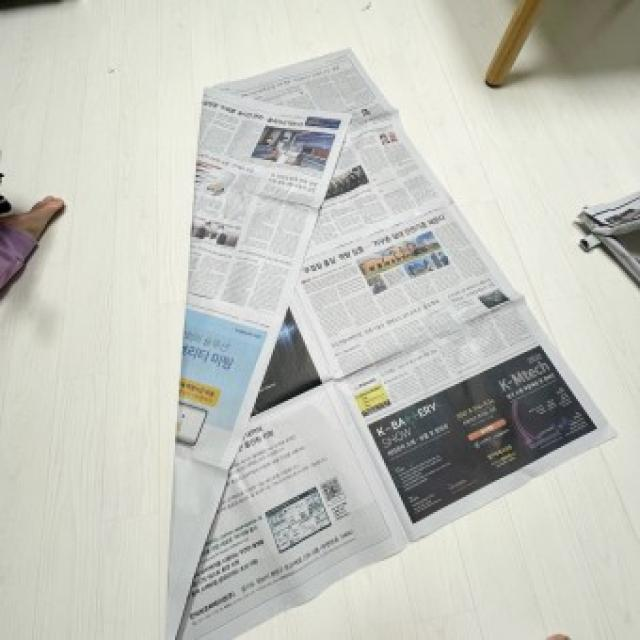Newspaper: (161, 48, 610, 640)
